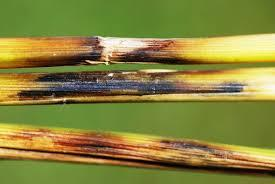Stem Rot: (15, 124, 275, 184), (16, 72, 268, 100), (20, 38, 249, 63)
